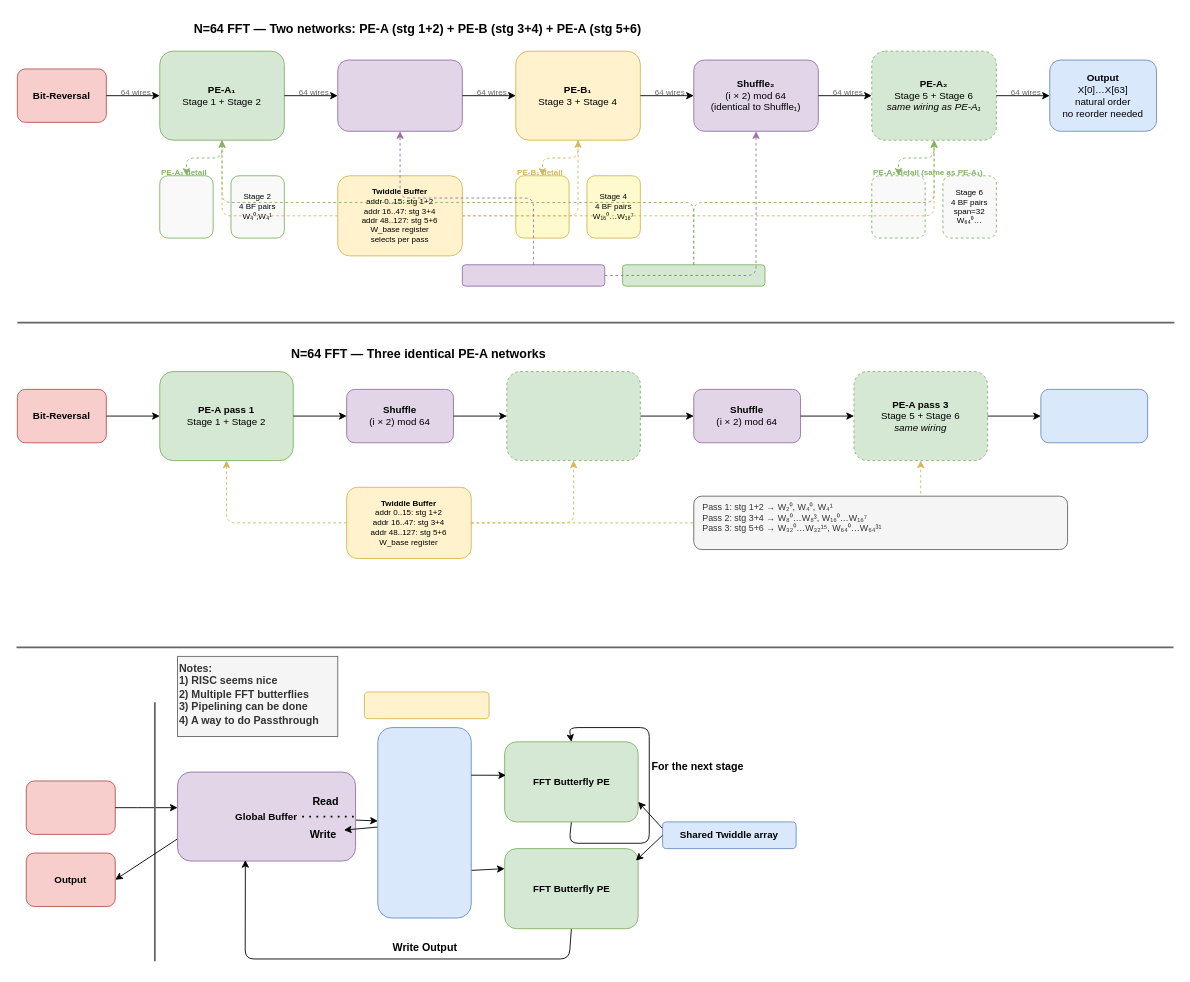
Some shapes in this 1190 by 982 pixel diagram are drawn without their labels. The centre of each missing label's shape, as x and y in pixels:
"Bit reversal (Just flip input wires?)" belongs at (426,705).
"identical butterfly wiring" belongs at (693,275).
"identical shuffle formula" belongs at (533,275).
"Input" belongs at (70,807).
"Input Sequencer For giving right inputs as (0,1), (2,3) pairs" belongs at (424,822).
"Output X[0]…X[63] natural order" belongs at (1094,415).
"PE-A pass 2 Stage 3 + Stage 4 same wiring" belongs at (573,416).
"Shuffle₁ (i × 2) mod 64" belongs at (399,95).
"Stage 1 4 BF pairs W₂⁰=1" belongs at (186,206).
"Stage 3 4 BF pairs W₈⁰…W₈³" belongs at (542,206).
"Stage 5 4 BF pairs span=16 W₃₂⁰…" belongs at (898,206).
